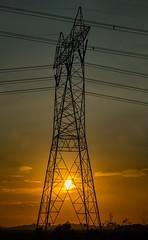power_tower: (36, 5, 105, 232)
